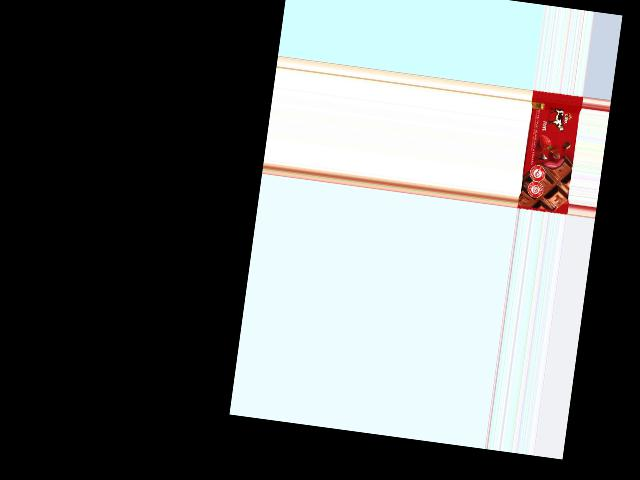chocolate: (517, 89, 583, 214)
